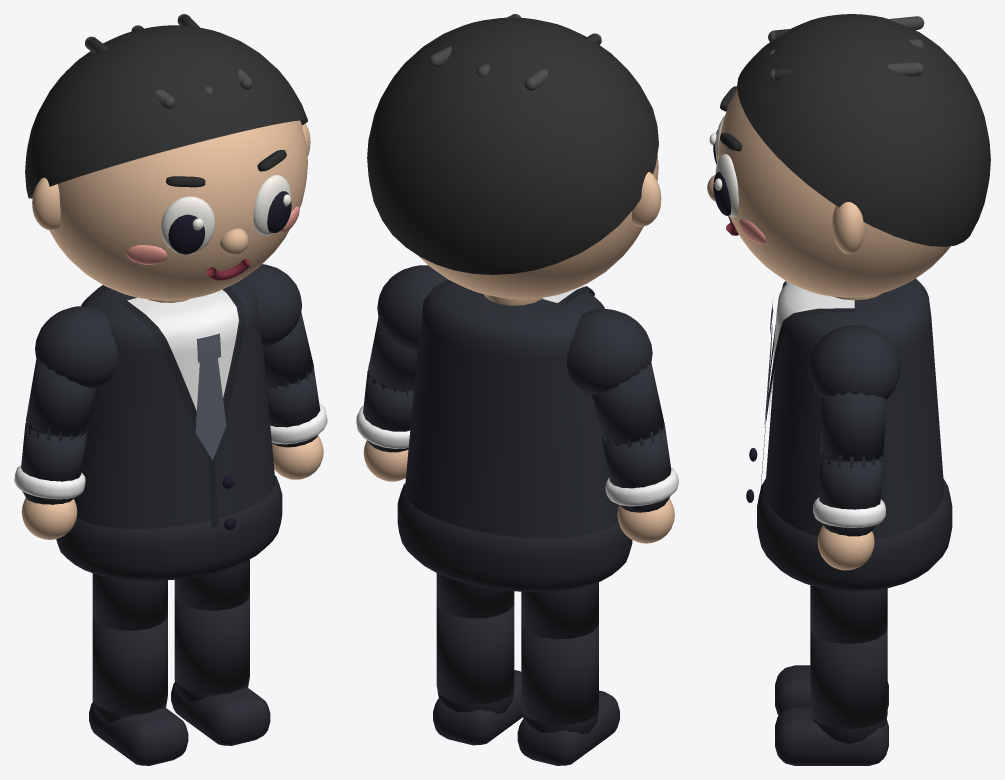
Rendered from ch_coatman.fbx.
The picture shows the model from 3 angles, left to right: view 1: azimuth 30°, elevation 25°; view 2: azimuth 150°, elevation 25°; view 3: azimuth 270°, elevation 25°; orthographic projection. The views are drawn at different scales.
Visible parts, largest first — view 1: ch_coatman; view 2: ch_coatman; view 3: ch_coatman.
Part boxes in pixels (x1,y1,x2,y2): ch_coatman: (14,14,327,765); ch_coatman: (356,14,678,765); ch_coatman: (707,14,990,765).
Size of the model in its own units: 0.7164 by 1.56 by 0.5673.
